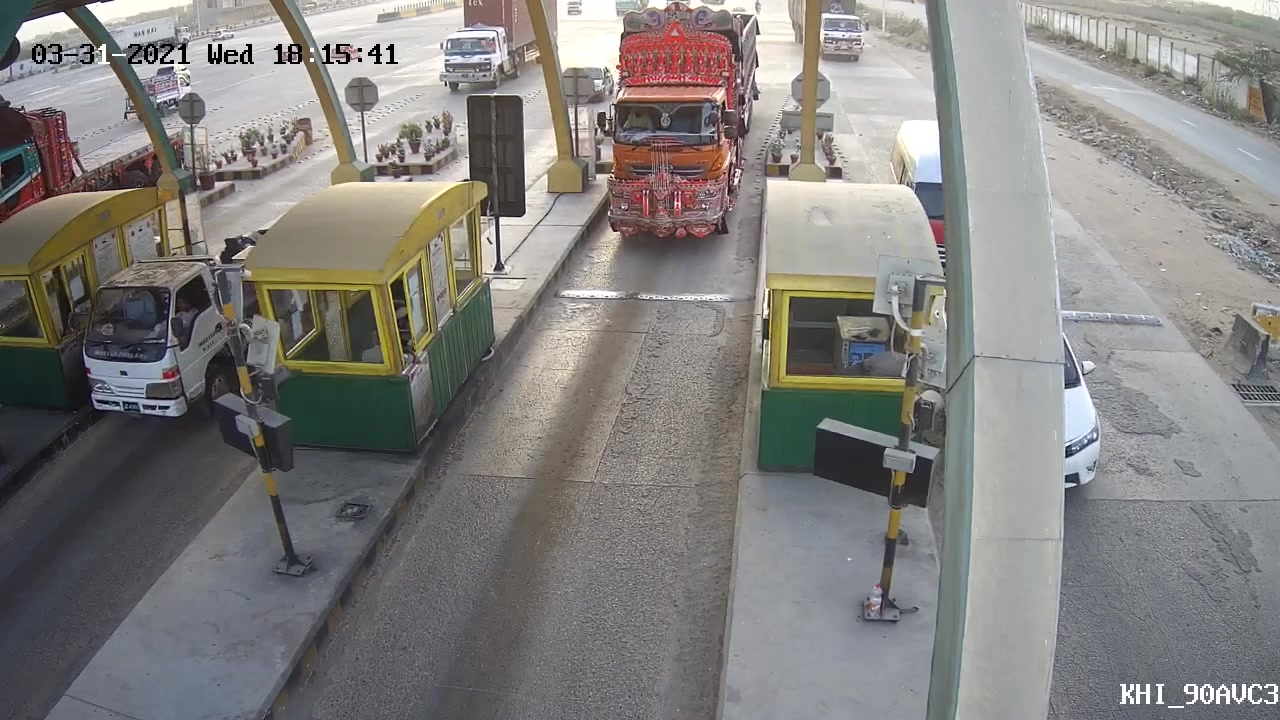F5: (592, 21, 754, 244)
